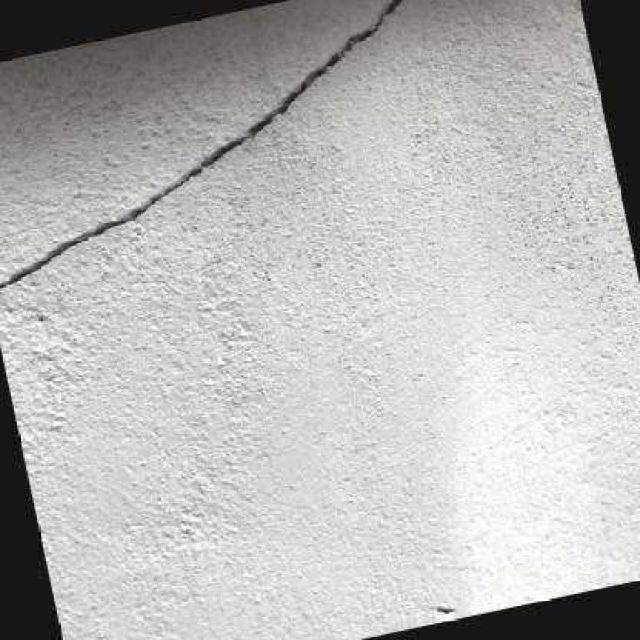D00: (0, 0, 404, 291)
